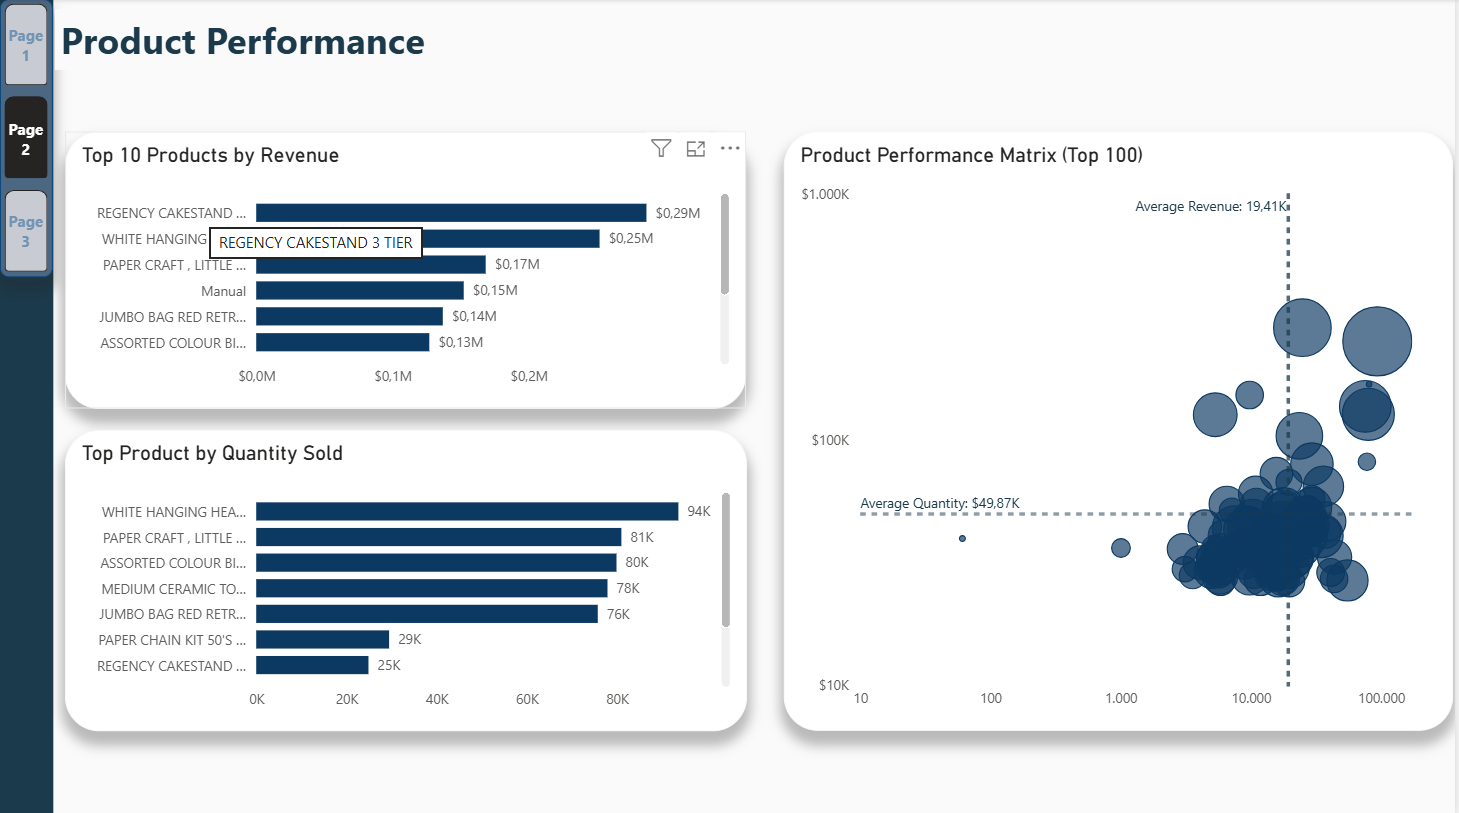

The page's visual inventory and layout, read from the dashboard file:
{"tool":"powerbi","page":{"name":"Page 2","canvas":[1280,720],"ordinal":1},"visuals":[{"type":"clusteredBarChart","title":"Top 10 Products by Revenue","fields":{"Category":["online_retail_cleaned.Description"],"Y":["online_retail_cleaned.Total Revenue"]},"box":[57.2,116.6,599.3,244.1],"z":0},{"type":"shape","box":[-0.7,0,48,720],"z":2000},{"type":"pageNavigator","box":[0,0,46.6,244.8],"z":3000},{"type":"scatterChart","title":"Product Performance Matrix (Top 100)","fields":{"Category":["online_retail_cleaned.Description"],"X":["Sum(online_retail_cleaned.Quantity)"],"Y":["online_retail_cleaned.Total Revenue"],"Size":["online_retail_cleaned.Total Orders"]},"box":[689.5,116,588.8,527.5],"z":4000},{"type":"clusteredBarChart","title":"Top Product by Quantity","fields":{"Category":["online_retail_cleaned.Description"],"Y":["Sum(online_retail_cleaned.Quantity)"]},"box":[57.2,379.4,600.4,265],"z":5000},{"type":"textbox","box":[48.4,8.8,270.5,53.9],"z":5001}]}

Visuals, with their boxes on the page's 1280x720 design canvas (x1, y1, x2, y2). These are canvas units, not pixel positions in the 1459x813 screenshot, which may show the page scaled, cropped or inside an application window:
"Top 10 Products by Revenue" clusteredBarChart: [x1=57, y1=117, x2=656, y2=361]
shape: [x1=-1, y1=0, x2=47, y2=720]
pageNavigator: [x1=0, y1=0, x2=47, y2=245]
"Product Performance Matrix (Top 100)" scatterChart: [x1=690, y1=116, x2=1278, y2=644]
"Top Product by Quantity" clusteredBarChart: [x1=57, y1=379, x2=658, y2=644]
textbox: [x1=48, y1=9, x2=319, y2=63]
